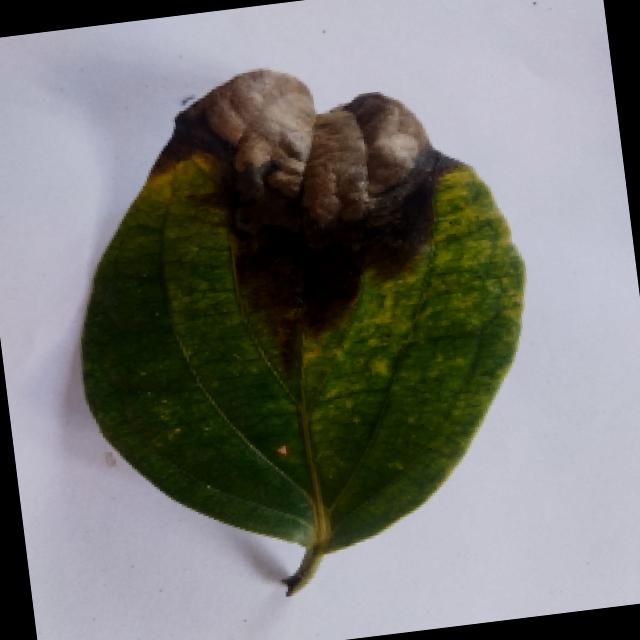footrot: (44, 44, 558, 613)
